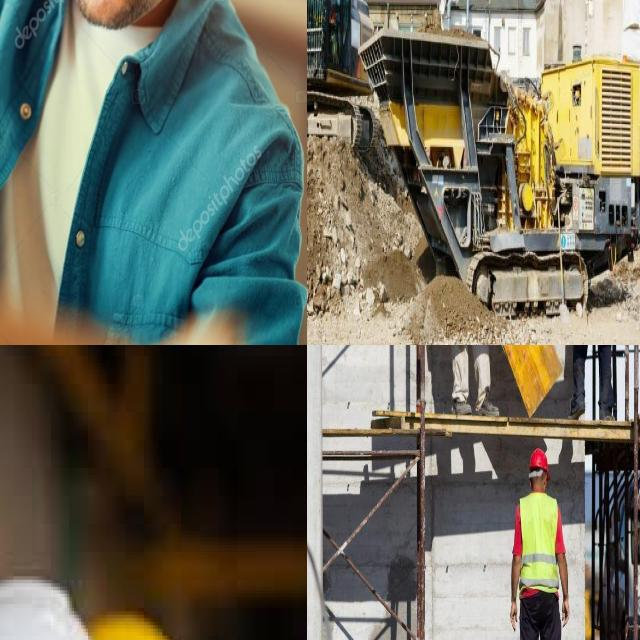hand_noglove: (506, 592, 520, 630), (559, 600, 572, 634)
head_helmet: (0, 562, 141, 640), (83, 600, 218, 640), (528, 448, 552, 469)
person: (518, 450, 567, 640), (432, 345, 501, 406), (578, 345, 625, 405)
vest: (519, 495, 567, 587)
